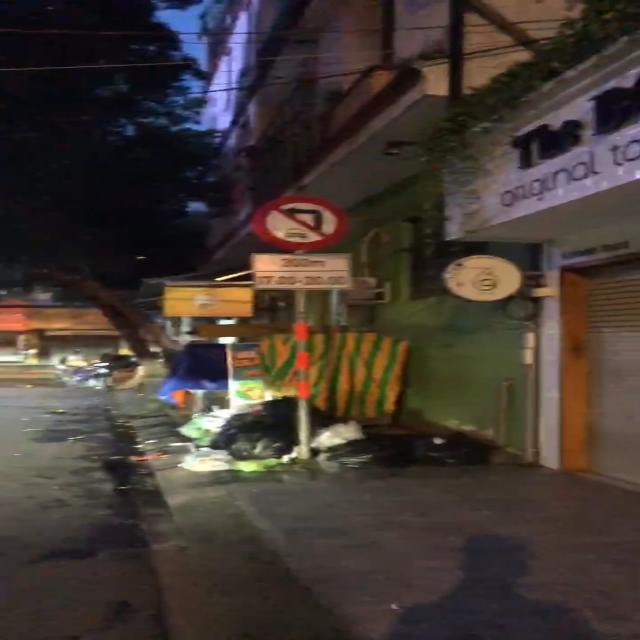Bien bao cam xe o to re trai: (243, 195, 348, 251)
